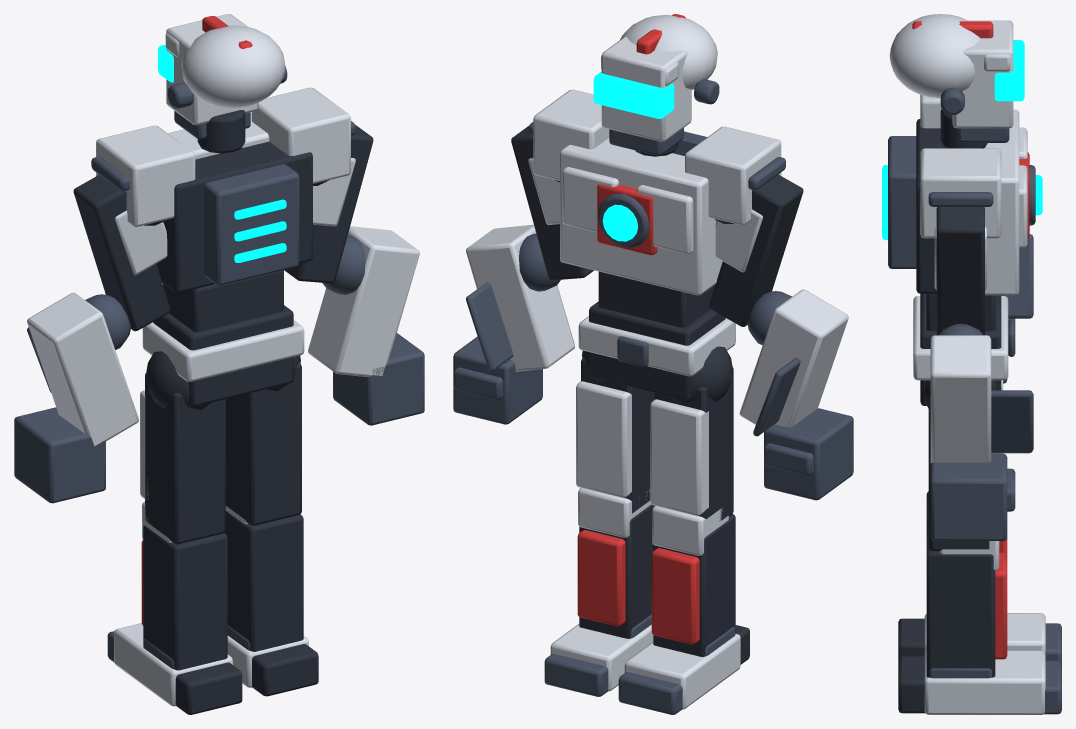
The model's file is char_vanguard.glb.
3 views of the same model, side by side, from view 1: azimuth 30°, elevation 25°; view 2: azimuth 150°, elevation 25°; view 3: azimuth 270°, elevation 25° (orthographic). The views are drawn at different scales.
Parts seen in each view (by area): view 1: char_vanguard; view 2: char_vanguard; view 3: char_vanguard.
Boxes of the visible parts, x1,y1,x2,y2 form: char_vanguard: (14, 14, 424, 714); char_vanguard: (453, 14, 853, 714); char_vanguard: (882, 14, 1061, 714).
Bounding box in the file's own units: 1.09 × 1.81 × 0.445.
